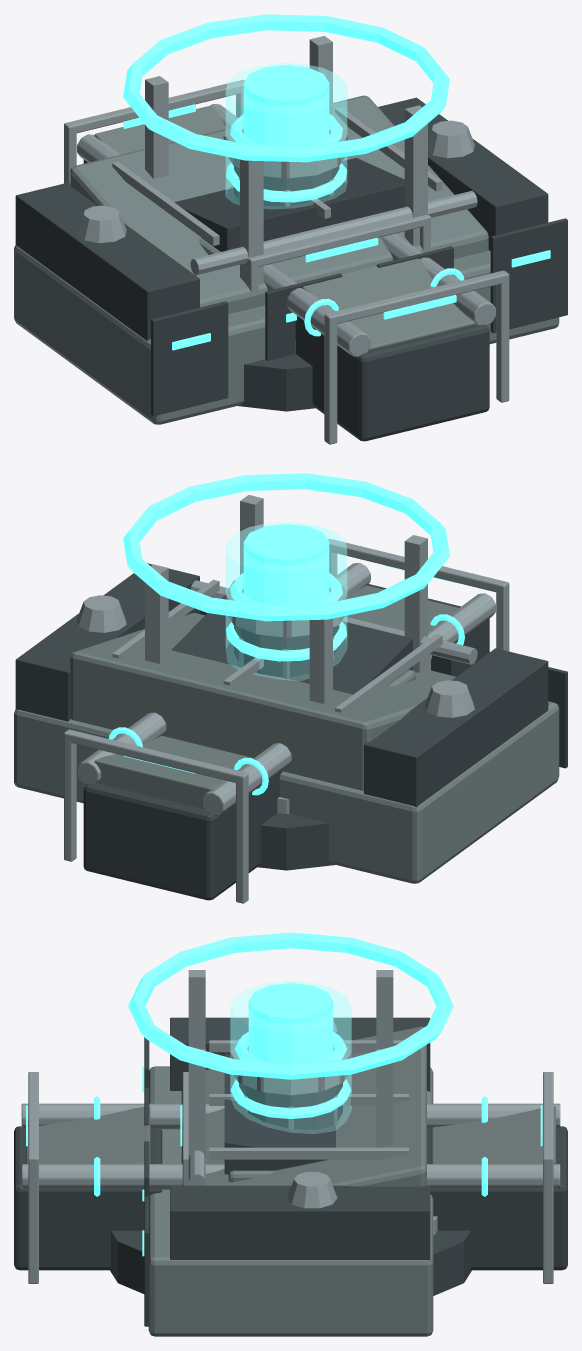
Rendered from energy-relay-kit.glb.
3 renders of one model, top to bottom at view 1: azimuth 30°, elevation 25°; view 2: azimuth 150°, elevation 25°; view 3: azimuth 270°, elevation 25°, orthographic.
Parts seen in each view (by area): view 1: ER_EquipmentBay_Root_ER_MAT_Graphite, ER_EquipmentBay_Root_ER_MAT_Panel, ER_Core_Root_ER_MAT_Cyan_Emissive, ER_ServiceSpine_Root_ER_MAT_Steel, ER_ServiceSpine_Root_ER_MAT_Graphite, Core_Glass, ER_EquipmentBay_Root_ER_MAT_Steel, ER_ServiceSpine_Root_ER_MAT_Panel, ER_Core_Root_ER_MAT_Steel, ER_Cabinet_Root_ER_MAT_Graphite, Core_Base, ER_ServiceSpine_Root_ER_MAT_Cyan_Emissive (+5 smaller); view 2: ER_EquipmentBay_Root_ER_MAT_Panel, ER_EquipmentBay_Root_ER_MAT_Graphite, ER_Core_Root_ER_MAT_Cyan_Emissive, ER_ServiceSpine_Root_ER_MAT_Graphite, ER_ServiceSpine_Root_ER_MAT_Steel, Core_Glass, ER_EquipmentBay_Root_ER_MAT_Steel, ER_Core_Root_ER_MAT_Steel, ER_ServiceSpine_Root_ER_MAT_Panel, ER_Cabinet_Root_ER_MAT_Graphite, Core_Base, Cooler_Body (+4 smaller); view 3: ER_EquipmentBay_Root_ER_MAT_Panel, ER_EquipmentBay_Root_ER_MAT_Graphite, ER_ServiceSpine_Root_ER_MAT_Graphite, ER_Core_Root_ER_MAT_Cyan_Emissive, ER_ServiceSpine_Root_ER_MAT_Steel, Core_Glass, ER_ServiceSpine_Root_ER_MAT_Panel, ER_EquipmentBay_Root_ER_MAT_Steel, ER_Core_Root_ER_MAT_Steel, ER_Cabinet_Root_ER_MAT_Graphite, Core_Base, Cooler_Body (+4 smaller).
Boxes of the visible parts, x1,y1,x2,y2 form: ER_EquipmentBay_Root_ER_MAT_Graphite: (15,97,567,415); ER_EquipmentBay_Root_ER_MAT_Panel: (14,95,559,424); ER_Core_Root_ER_MAT_Cyan_Emissive: (123,14,449,162); ER_ServiceSpine_Root_ER_MAT_Steel: (64,80,509,444); ER_ServiceSpine_Root_ER_MAT_Graphite: (83,160,489,441); Core_Glass: (225,63,347,208); ER_EquipmentBay_Root_ER_MAT_Steel: (76,107,477,275); ER_ServiceSpine_Root_ER_MAT_Panel: (94,106,475,349); ER_Core_Root_ER_MAT_Steel: (145,36,427,353); ER_Cabinet_Root_ER_MAT_Graphite: (174,158,404,251); Core_Base: (238,354,315,411); ER_ServiceSpine_Root_ER_MAT_Cyan_Emissive: (123,104,464,336); ER_EquipmentBay_Root_ER_MAT_Panel: (14,613,559,883); ER_EquipmentBay_Root_ER_MAT_Graphite: (15,563,567,807); ER_Core_Root_ER_MAT_Cyan_Emissive: (123,473,449,621); ER_ServiceSpine_Root_ER_MAT_Graphite: (83,584,489,900); ER_ServiceSpine_Root_ER_MAT_Steel: (64,539,509,903); Core_Glass: (225,522,347,680); ER_EquipmentBay_Root_ER_MAT_Steel: (76,579,477,717); ER_Core_Root_ER_MAT_Steel: (145,495,427,813); ER_ServiceSpine_Root_ER_MAT_Panel: (94,585,458,808); ER_Cabinet_Root_ER_MAT_Graphite: (171,595,412,694); Core_Base: (257,813,334,870); Cooler_Body: (234,625,339,677); ER_EquipmentBay_Root_ER_MAT_Panel: (148,1026,433,1336); ER_EquipmentBay_Root_ER_MAT_Graphite: (144,1017,430,1326); ER_ServiceSpine_Root_ER_MAT_Graphite: (14,1126,567,1270); ER_Core_Root_ER_MAT_Cyan_Emissive: (128,932,453,1079); ER_ServiceSpine_Root_ER_MAT_Steel: (21,1072,560,1283); Core_Glass: (230,981,351,1133); ER_ServiceSpine_Root_ER_MAT_Panel: (26,1106,555,1163); ER_EquipmentBay_Root_ER_MAT_Steel: (188,1020,408,1208); ER_Core_Root_ER_MAT_Steel: (188,970,437,1234); ER_Cabinet_Root_ER_MAT_Graphite: (224,1053,335,1174); Core_Base: (110,1230,471,1295); Cooler_Body: (239,1083,342,1129).
Size of the model in its own units: 7.82 by 4.41 by 9.15.
